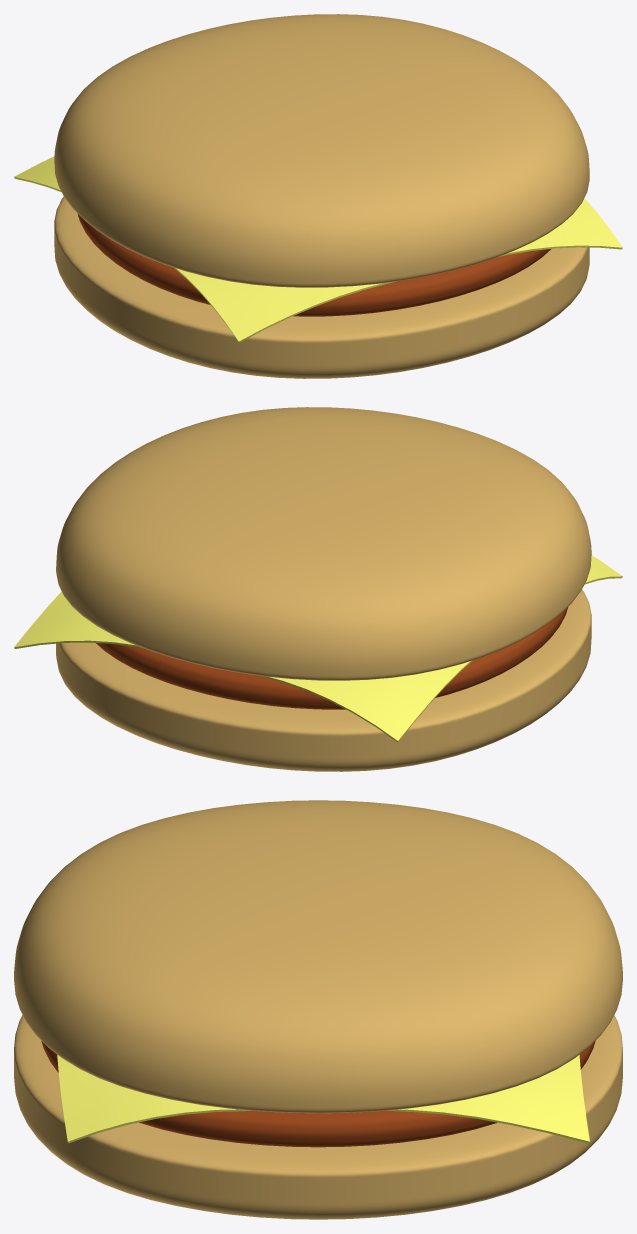
Rendered from burger.glb.
The picture shows the model from 3 angles, top to bottom: view 1: azimuth 30°, elevation 25°; view 2: azimuth 150°, elevation 25°; view 3: azimuth 270°, elevation 25°; orthographic projection. The views are drawn at different scales.
Parts seen in each view (by area): view 1: Cube.002, Cube, Plane, Cube.001; view 2: Cube.002, Cube, Plane, Cube.001; view 3: Cube.002, Cube, Plane, Cube.001.
Boxes of the visible parts, x1,y1,x2,y2 form: Cube.002: (54, 14, 589, 287); Cube: (54, 196, 589, 378); Plane: (14, 156, 622, 342); Cube.001: (77, 213, 550, 316); Cube.002: (56, 407, 591, 680); Cube: (56, 589, 591, 771); Plane: (14, 555, 622, 742); Cube.001: (96, 607, 568, 709); Cube.002: (14, 800, 622, 1113); Cube: (14, 1015, 622, 1219); Plane: (57, 1055, 589, 1143); Cube.001: (41, 1041, 595, 1147).
Size of the model in its own units: 1.83 by 0.7856 by 1.83.
